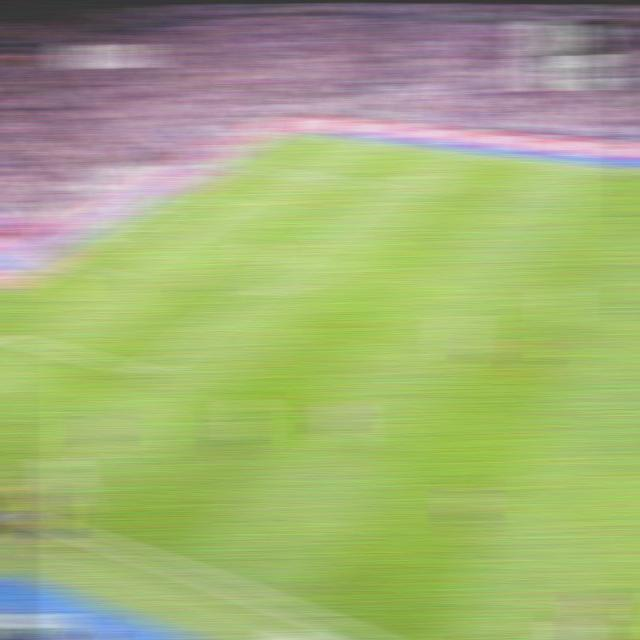bigarea_bottom_inner: (133, 360, 162, 384)
bigarea_top_inner: (368, 181, 393, 193)
bigarea_top_outter: (230, 159, 254, 169)
bottom_arc_area_intersection: (235, 284, 264, 301)
smallarea_bottom_inner: (100, 268, 126, 283)
smallarea_top_inner: (220, 200, 242, 209)
top_arc_area_intersection: (315, 221, 342, 235)
